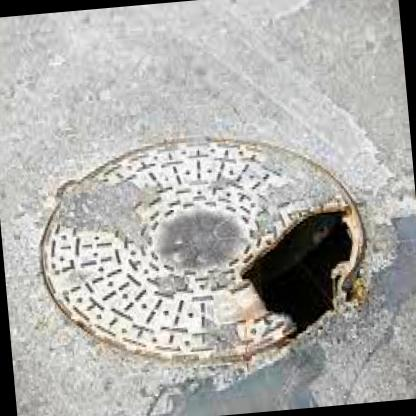manholes: (18, 109, 386, 388)
